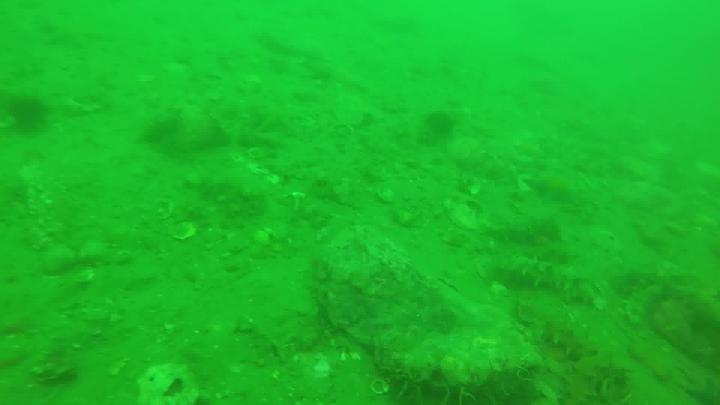echinus: (9, 99, 49, 132), (425, 110, 458, 144)
holothurian: (504, 255, 581, 299), (529, 321, 595, 364)
scallop: (166, 222, 197, 242), (458, 171, 482, 196), (152, 197, 172, 218), (253, 228, 276, 246), (371, 380, 392, 396), (377, 188, 395, 205), (232, 153, 244, 162)
